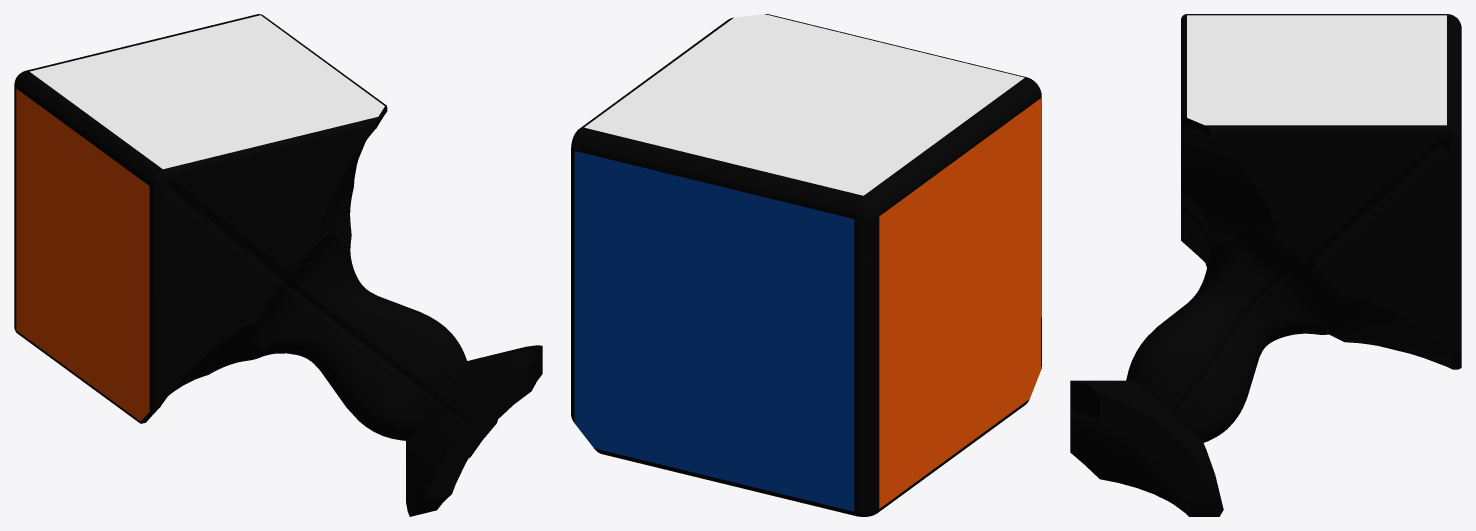
3 views of the same model, side by side, from view 1: azimuth 30°, elevation 25°; view 2: azimuth 150°, elevation 25°; view 3: azimuth 270°, elevation 25° (orthographic). The views are drawn at different scales.
Parts seen in each view (by area): view 1: Corner_Peice.002_Corner_Peice.001; view 2: Corner_Peice.002_Corner_Peice.001; view 3: Corner_Peice.002_Corner_Peice.001.
Boxes of the visible parts, <box> form: Corner_Peice.002_Corner_Peice.001: <box>14,14,542,516</box>; Corner_Peice.002_Corner_Peice.001: <box>571,14,1041,516</box>; Corner_Peice.002_Corner_Peice.001: <box>1070,14,1461,516</box>.
Size of the model in its own units: 2.65 by 2.65 by 2.65.
